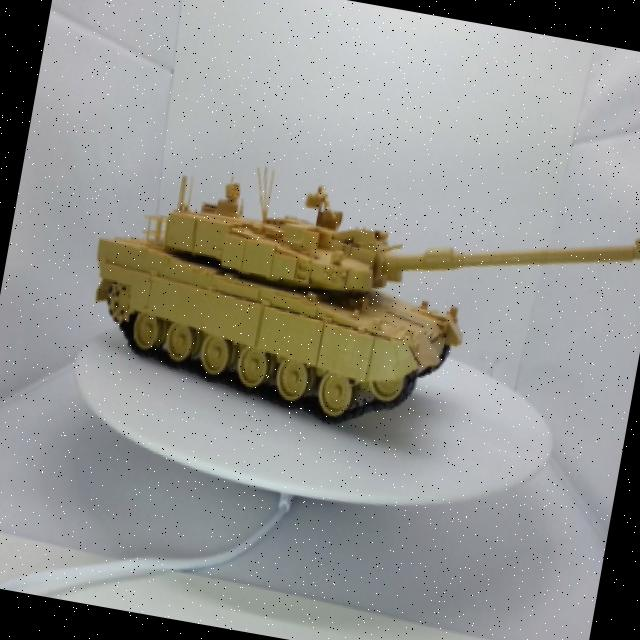korea tank: (41, 125, 640, 483)
